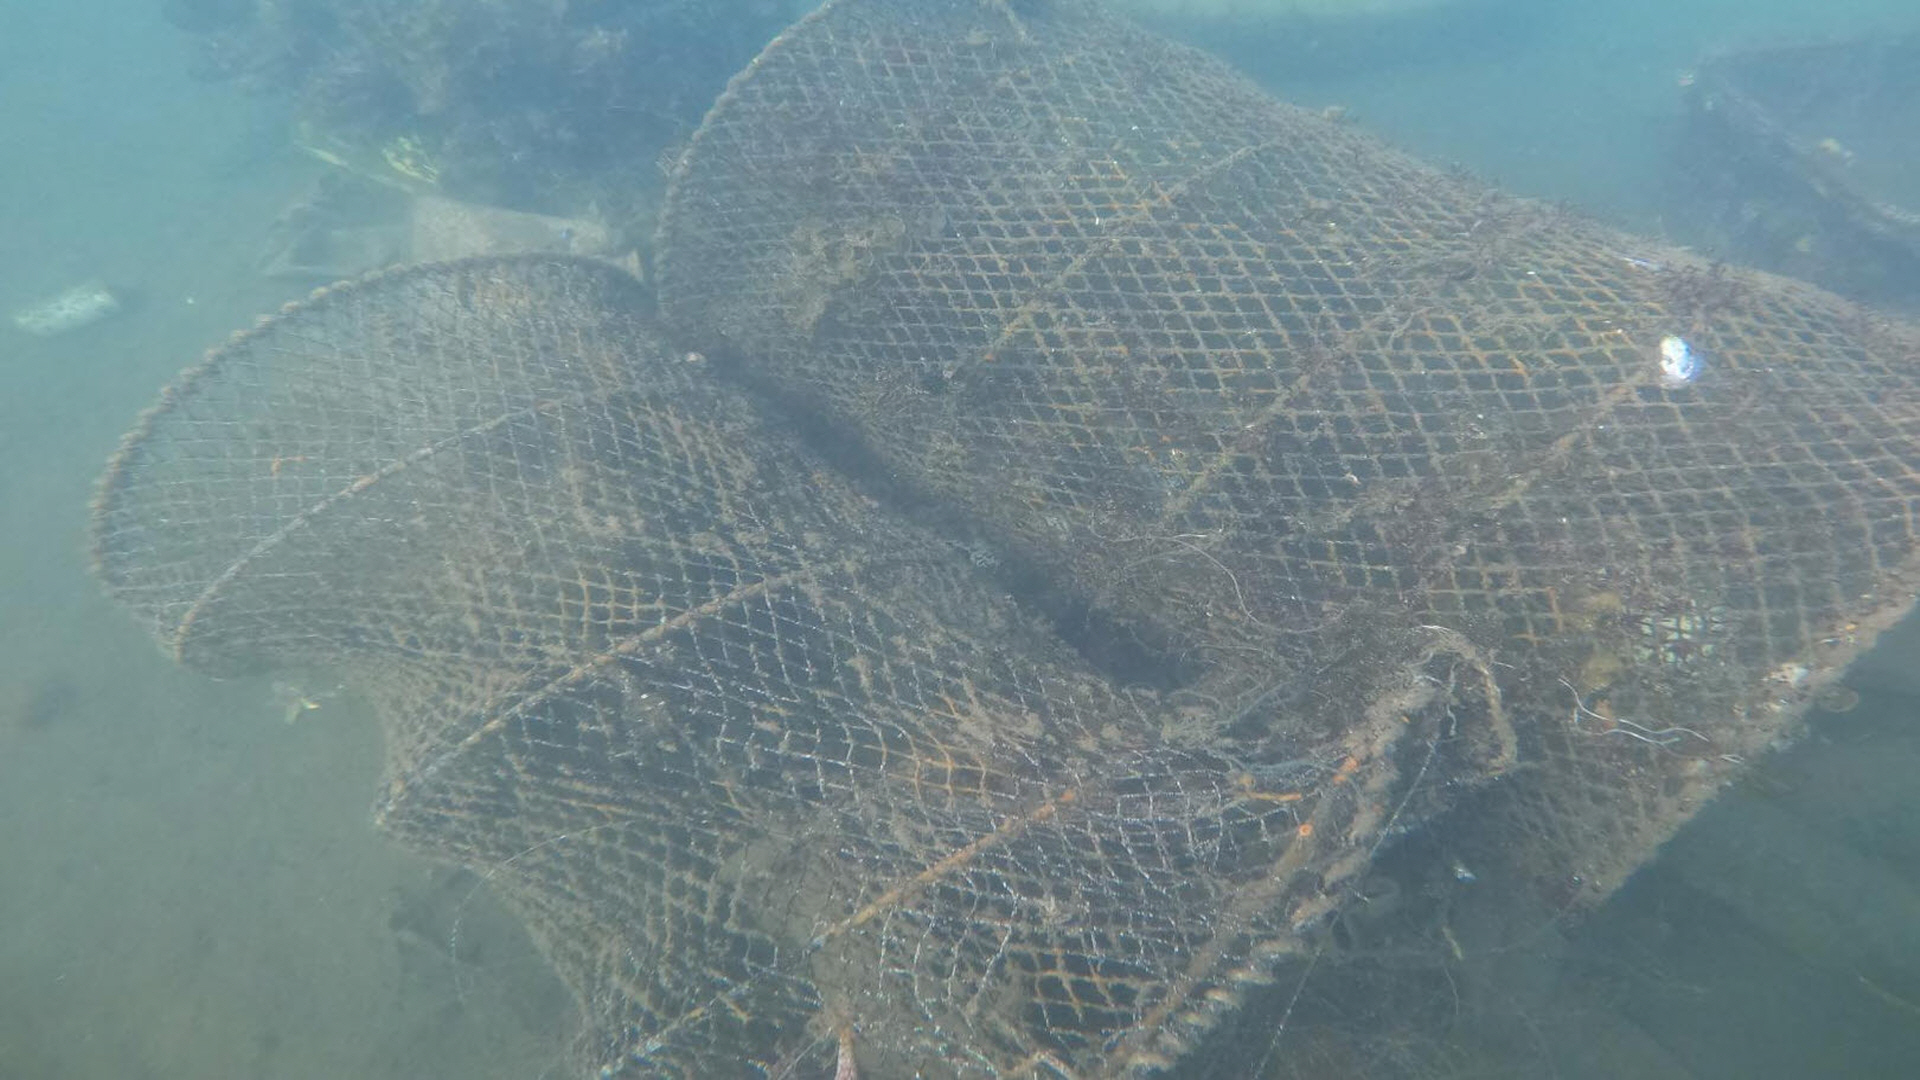spring fish trap: (650, 0, 1920, 913), (84, 251, 1407, 1080)
